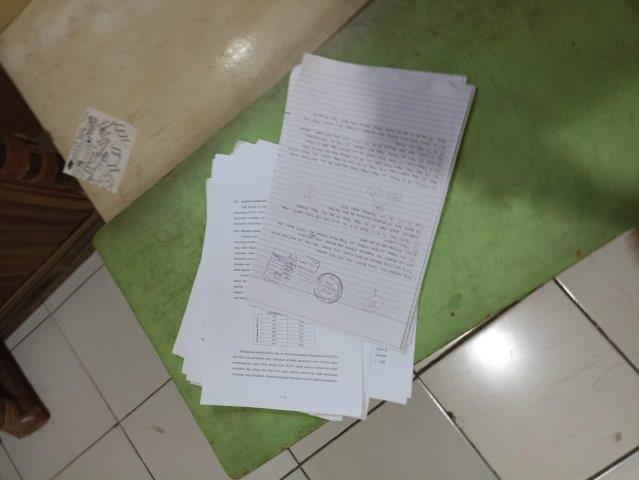kertas: (171, 53, 476, 420)
